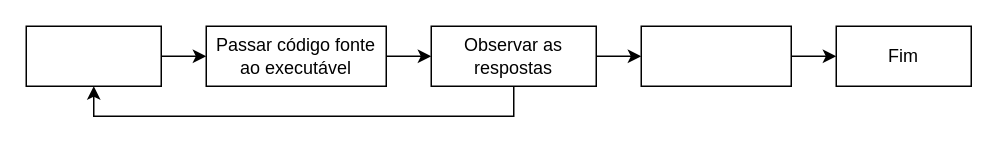
The diagram is 998 pixels wide and 155 high, and some of its shapes have lost their labels. The centre of each missing label's shape, as x and y in pixels:
"Escrever código fonte" belongs at (93,55).
"Exportar resultados" belongs at (715,55).
